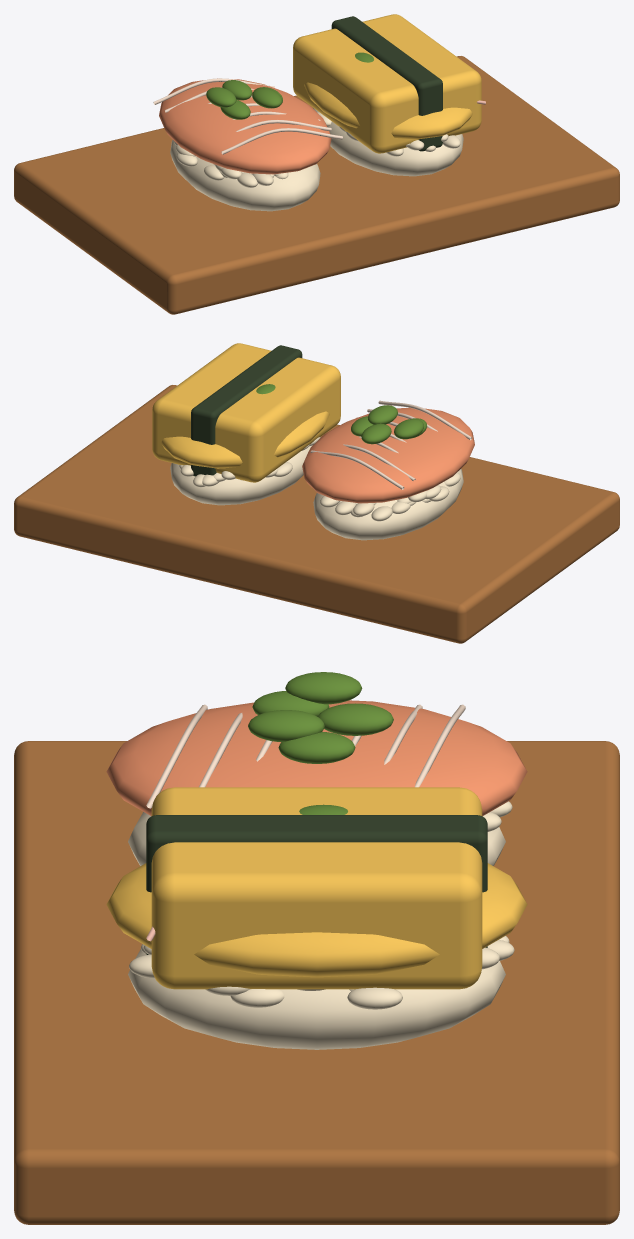
The model's file is 32-salmon-egg.glb.
3 views of the same model, one above another, from view 1: azimuth 30°, elevation 25°; view 2: azimuth 150°, elevation 25°; view 3: azimuth 270°, elevation 25° (orthographic). The views are drawn at different scales.
Visible parts, largest first — view 1: 연어·계란 초밥; view 2: 연어·계란 초밥; view 3: 연어·계란 초밥.
Part boxes in pixels (<box>): 연어·계란 초밥: <box>14,14,619,314</box>; 연어·계란 초밥: <box>14,343,619,643</box>; 연어·계란 초밥: <box>14,672,619,1224</box>.
Bounding box in the file's own units: 1.8 × 0.595 × 1.1.
